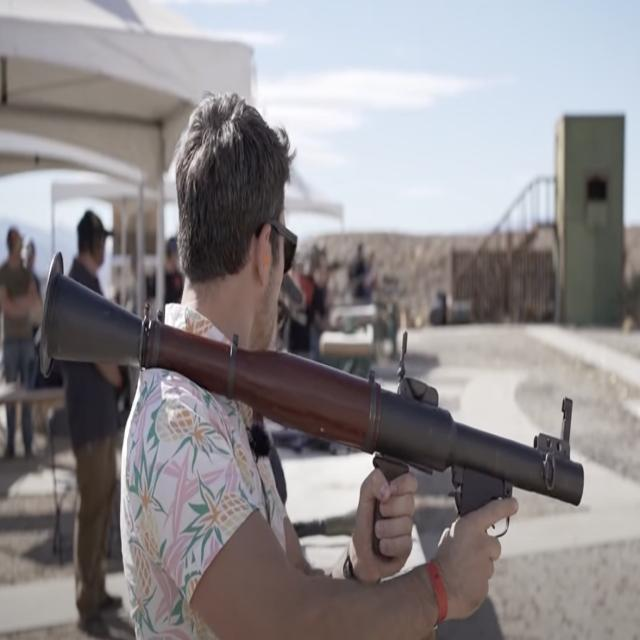bazooka: (42, 257, 590, 518)
